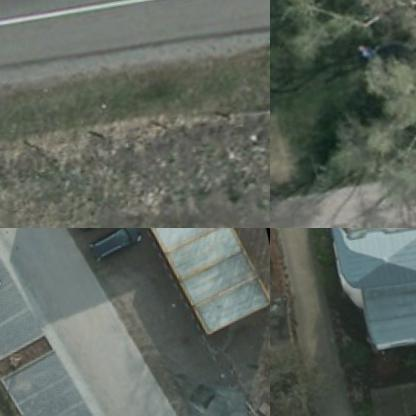car: (78, 228, 141, 269), (60, 228, 128, 239)
